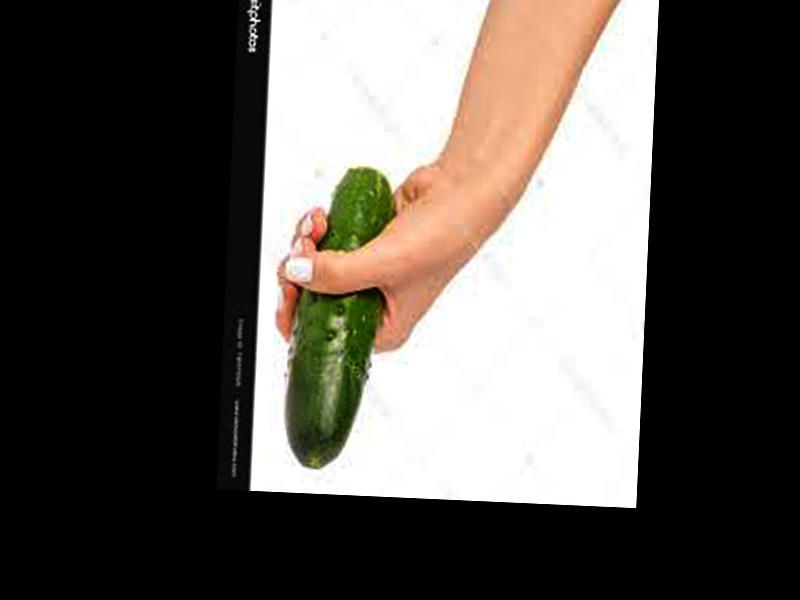Cucumber: (282, 166, 394, 474)
